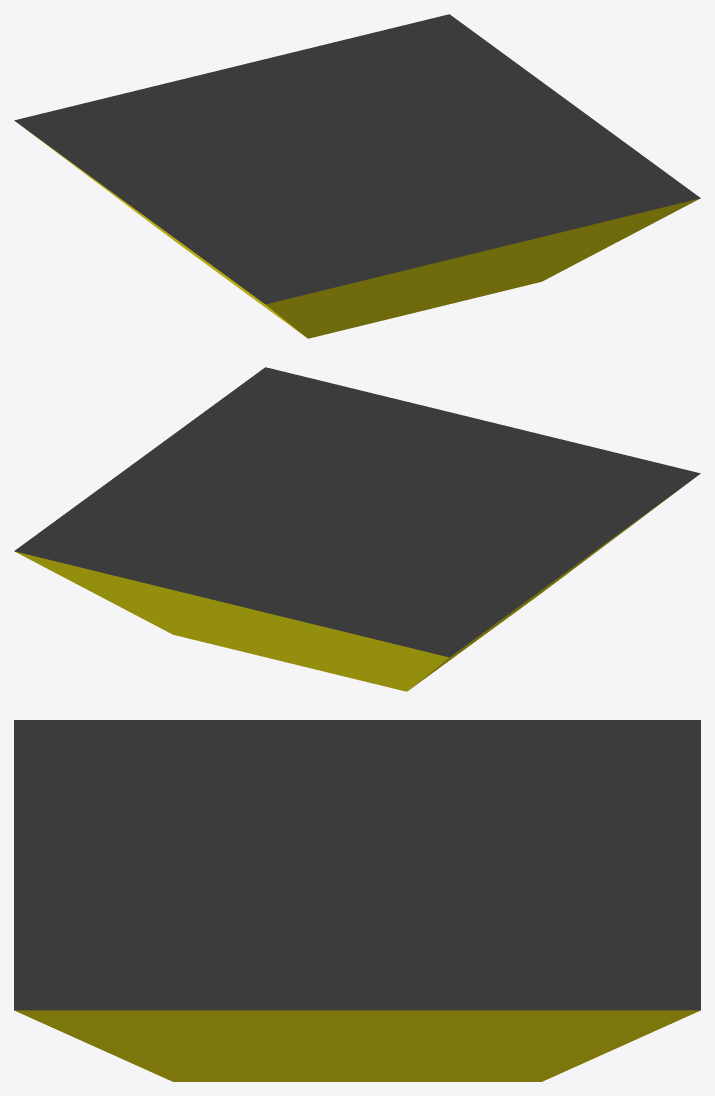
The model's file is Road brick.fbx.
3 renders of one model, top to bottom at view 1: azimuth 30°, elevation 25°; view 2: azimuth 150°, elevation 25°; view 3: azimuth 270°, elevation 25°, orthographic. The views are drawn at different scales.
Visible parts, largest first — view 1: Cube; view 2: Cube; view 3: Cube.
Boxes of the visible parts, <box> form: Cube: <box>14,14,700,338</box>; Cube: <box>14,367,700,691</box>; Cube: <box>14,720,700,1081</box>.
Size of the model in its own units: 898 by 200 by 898.
